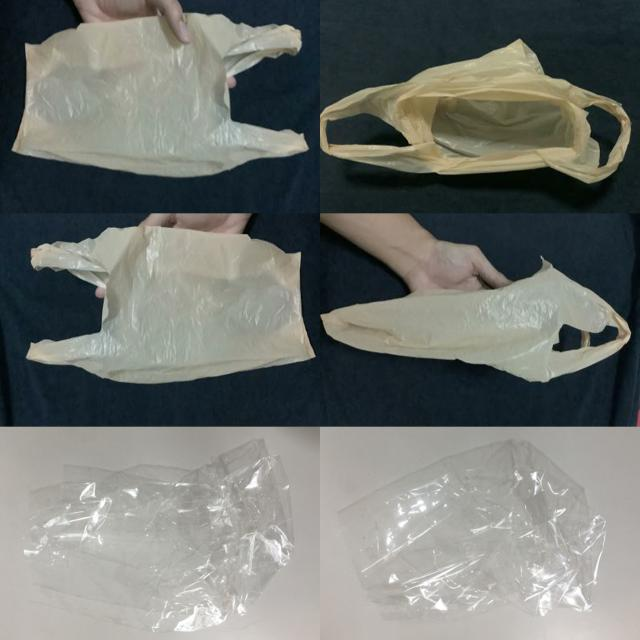Single-layer Plastic: (25, 439, 294, 632), (13, 14, 308, 178), (339, 440, 605, 620), (28, 226, 314, 384), (320, 40, 630, 182), (322, 260, 630, 382)
